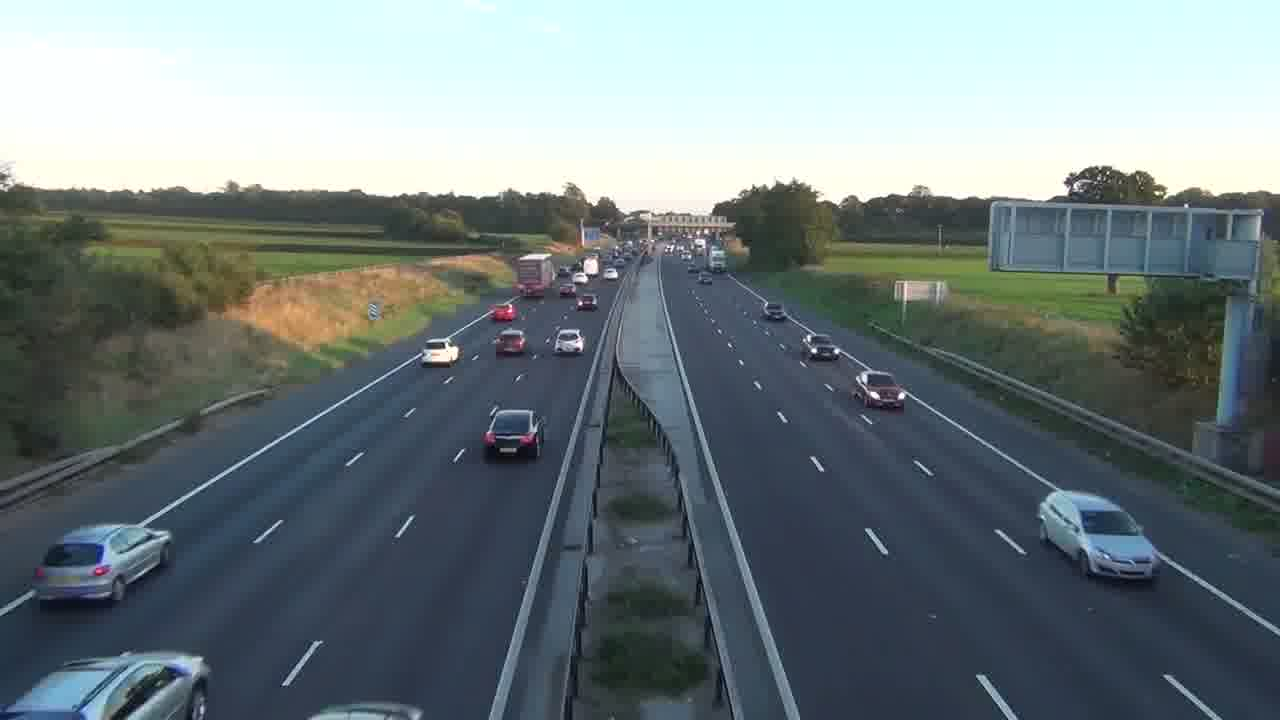car: (0, 651, 211, 719), (31, 523, 175, 607), (1037, 488, 1158, 582), (483, 408, 547, 458), (850, 369, 907, 410), (307, 701, 424, 719), (800, 336, 840, 363), (554, 328, 585, 356), (496, 329, 528, 356)
truck: (511, 253, 555, 298)
